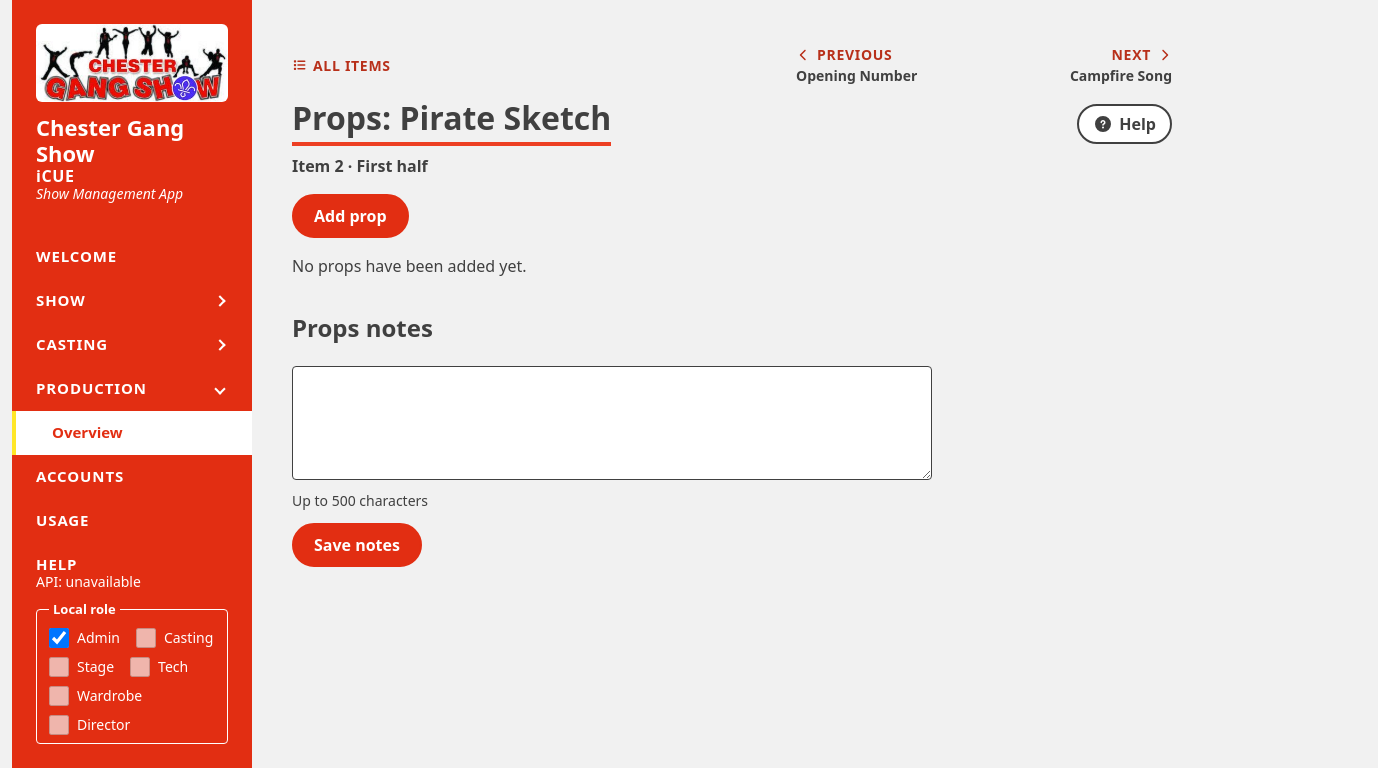
Test case: An item's props page › steps across the interval like the casting item page, opening that item's props
What coordinates should you click on to do the following:
click the link "Next Campfire Song"
I would click on:
 (1121, 65)
Its box is [1070,45,1172,85].
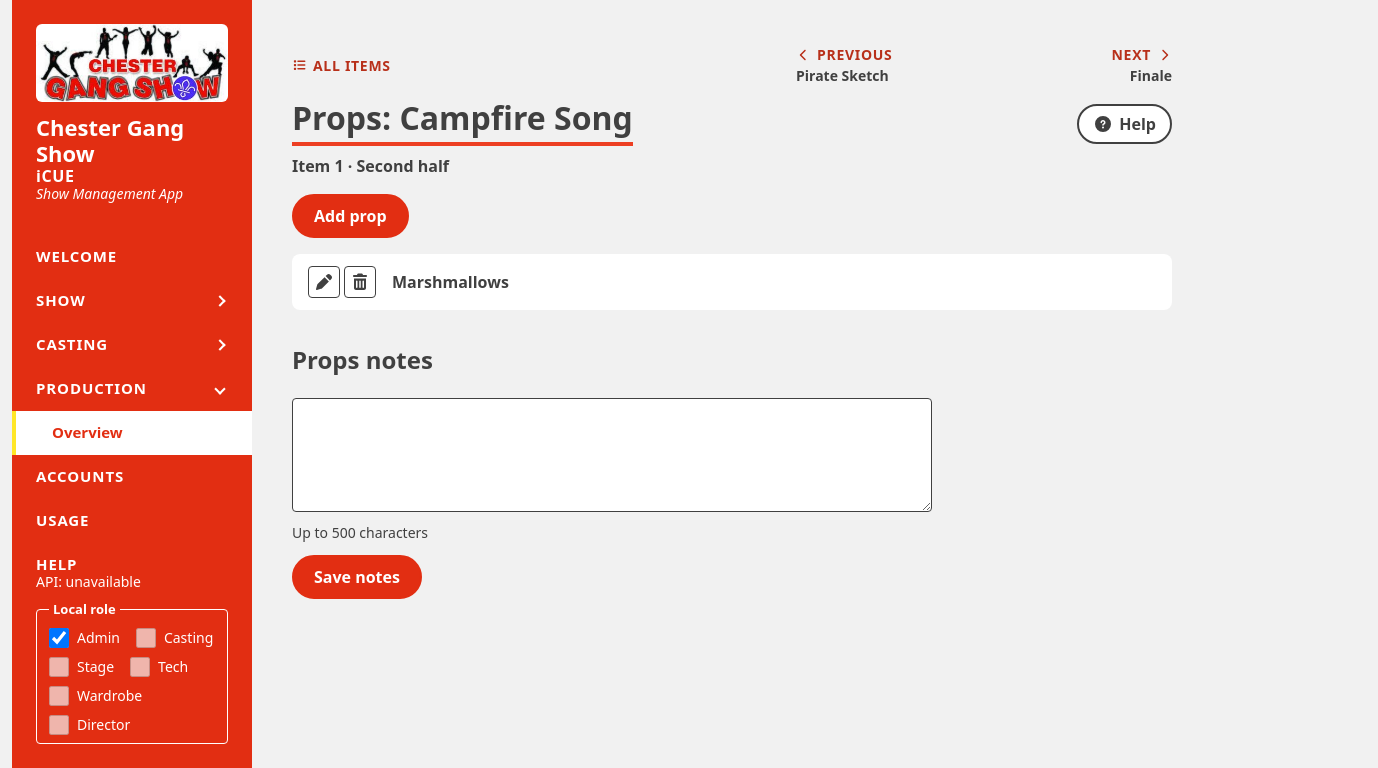
Check: the heading "Props: Campfire Song" is shown, box [292,94,633,146]
